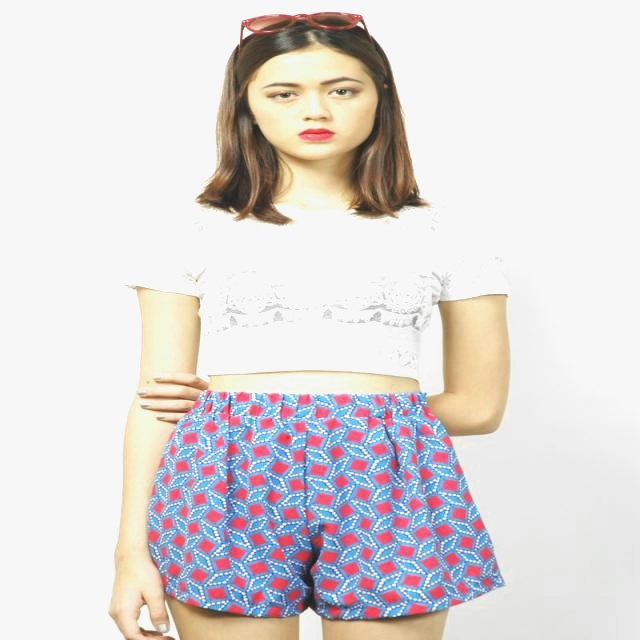Crop_Top: (191, 212, 442, 396)
Shorts: (144, 392, 507, 640)
